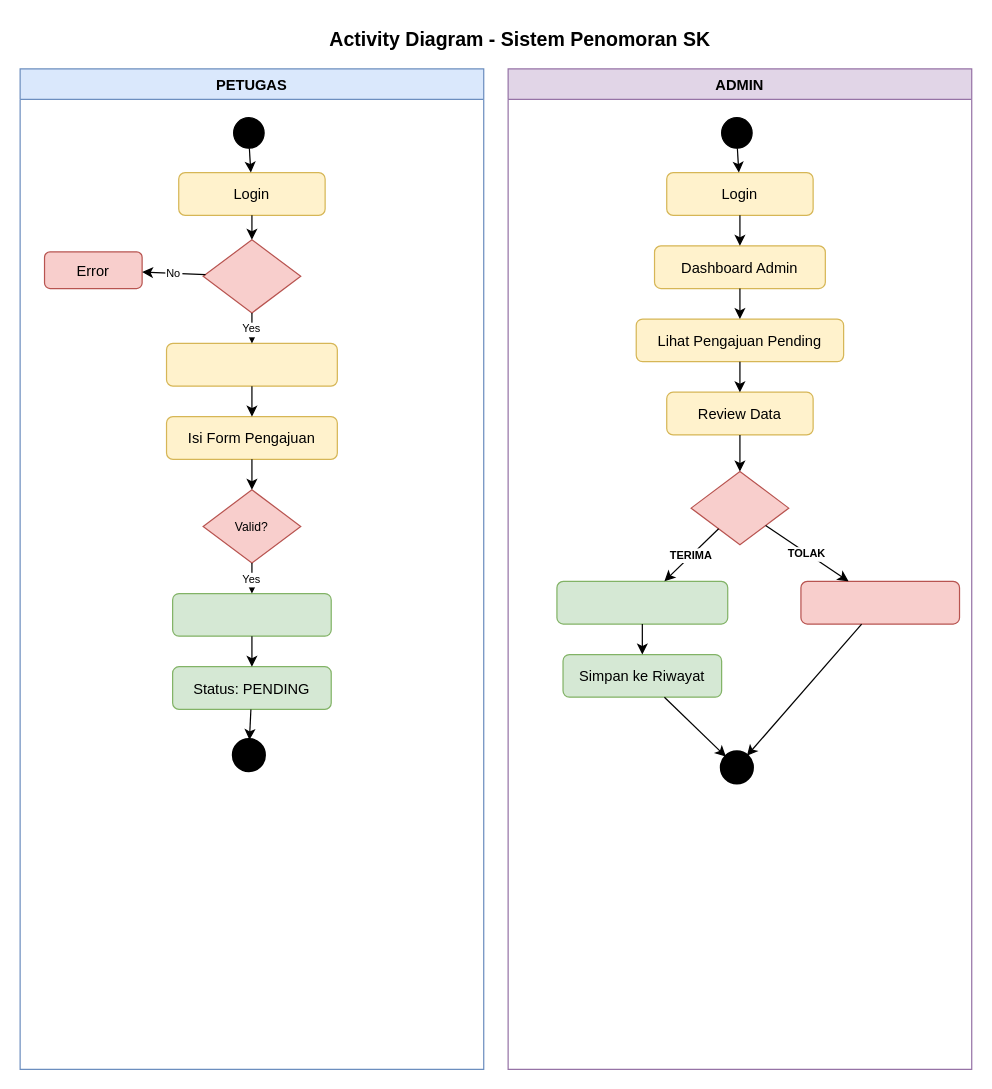
Some shapes in this 992 by 1089 pixel diagram are drawn without their labels. The centre of each missing label's shape, as x and y in pixels:
"Berhasil?" goes at [251,276].
"Dashboard Petugas" goes at [251,364].
"Generate Nomor SK" goes at [642,602].
"Keputusan?" goes at [739,507].
"Kirim Pengajuan" goes at [251,614].
"Update Status DITOLAK" goes at [880,602].
